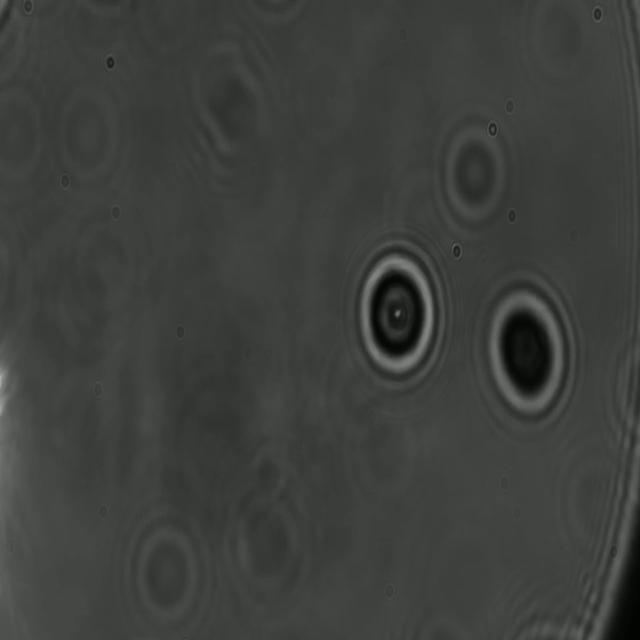DCELL: (469, 255, 582, 442)
LCELL: (332, 218, 462, 410)
